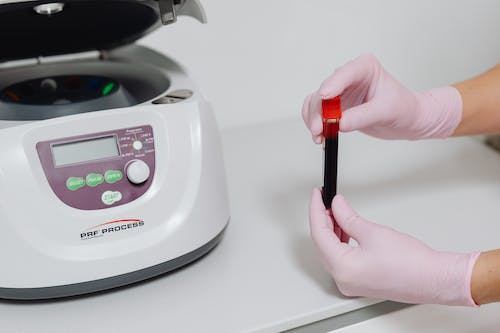blood: (322, 118, 339, 211)
